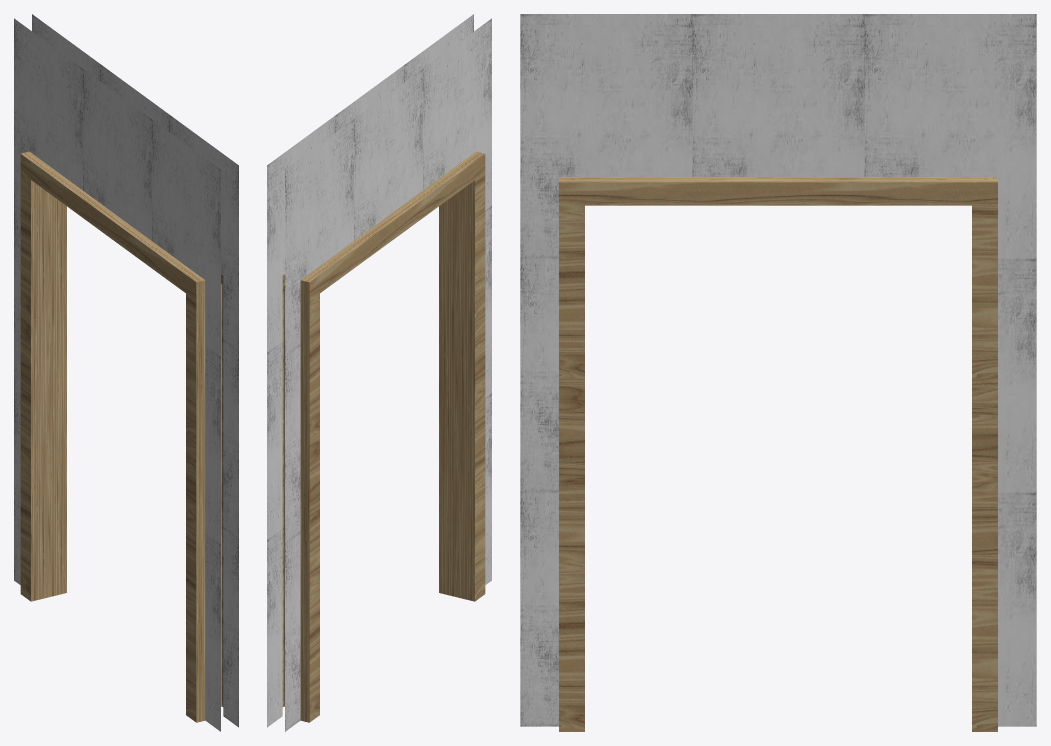
The model's file is DoorFrame001.FBX.
3 renders of one model, left to right at view 1: azimuth 30°, elevation 25°; view 2: azimuth 150°, elevation 25°; view 3: azimuth 270°, elevation 25°, orthographic. The views are drawn at different scales.
Parts seen in each view (by area): view 1: DoorFrame002; view 2: DoorFrame002; view 3: DoorFrame002.
Boxes of the visible parts, box(x1,y1,x2,y2) form: DoorFrame002: box(14, 14, 238, 731); DoorFrame002: box(267, 14, 491, 731); DoorFrame002: box(520, 14, 1036, 731).
Bounding box in the file's own units: 20 × 300 × 200.
